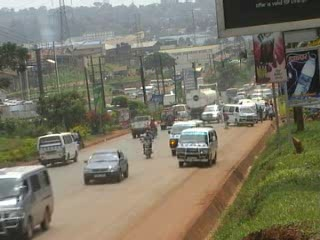Car: (82, 147, 129, 186), (156, 106, 183, 131)
Motorcycle: (137, 127, 155, 159), (148, 115, 159, 138)
